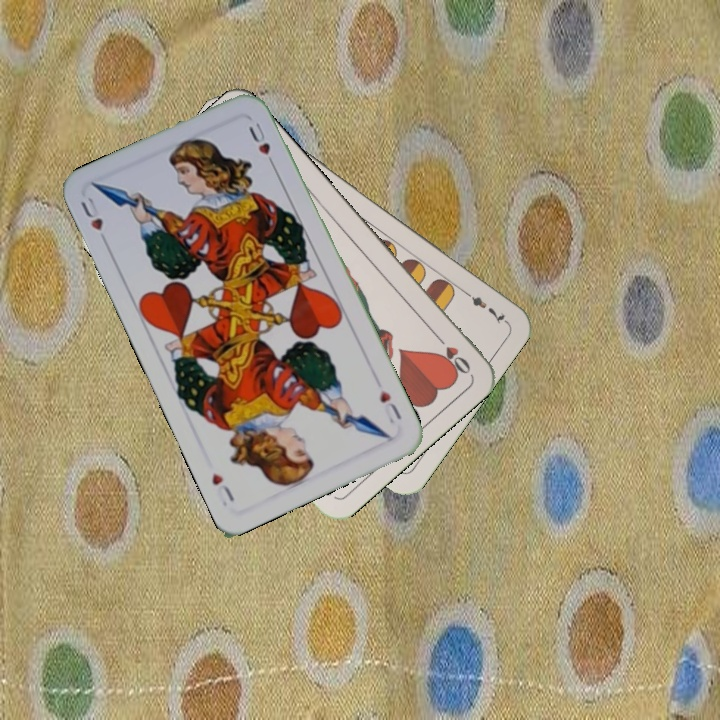E7: (458, 285, 509, 327)
HO: (429, 328, 474, 377)
HU: (76, 193, 111, 248), (375, 385, 405, 427)
